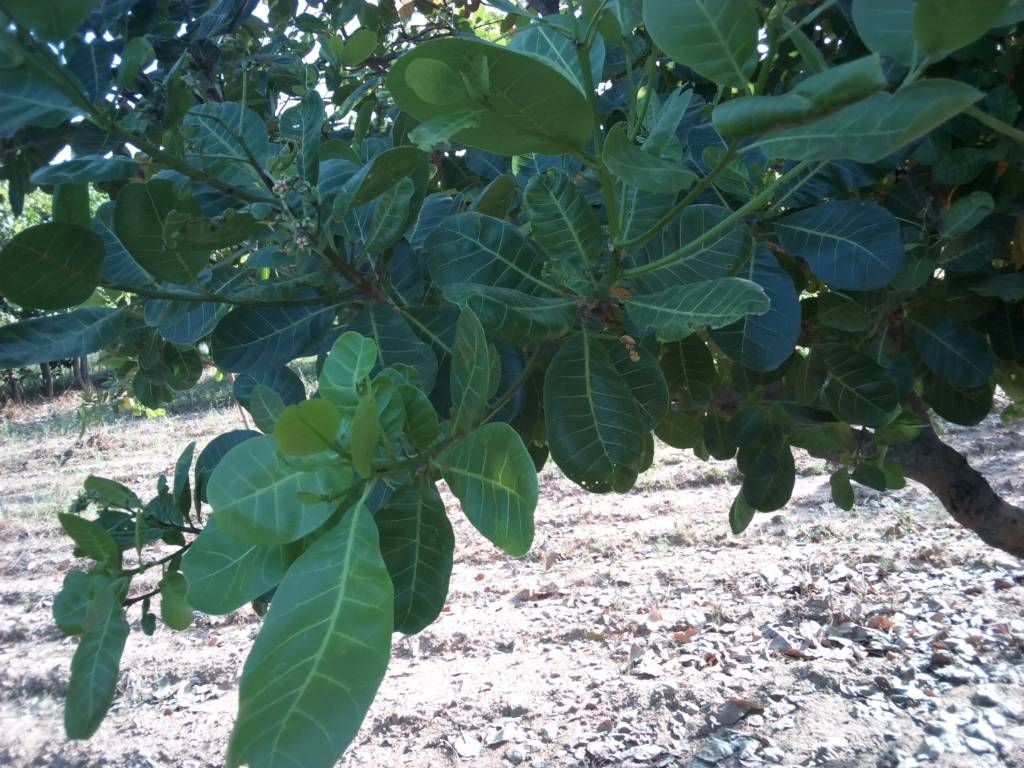Helopeltis anacardii: (630, 279, 770, 330), (445, 285, 587, 334), (156, 211, 265, 249)
